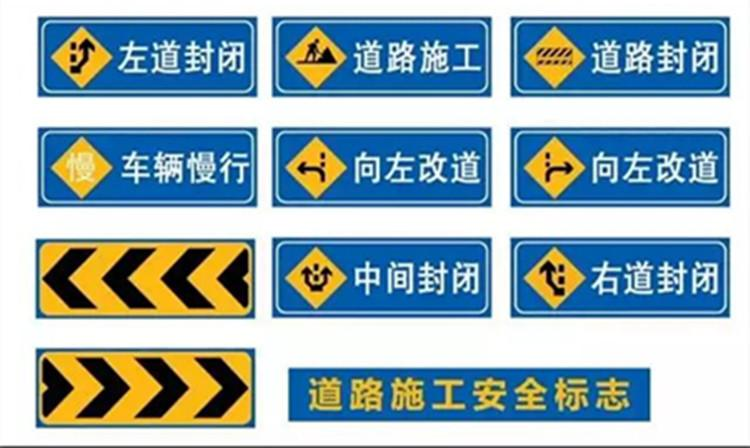sign: (271, 129, 492, 208), (36, 19, 261, 96), (30, 243, 257, 319), (37, 350, 254, 429), (511, 21, 736, 96), (512, 130, 730, 206), (39, 129, 254, 206), (273, 240, 488, 317), (513, 242, 729, 315), (276, 21, 489, 95)
